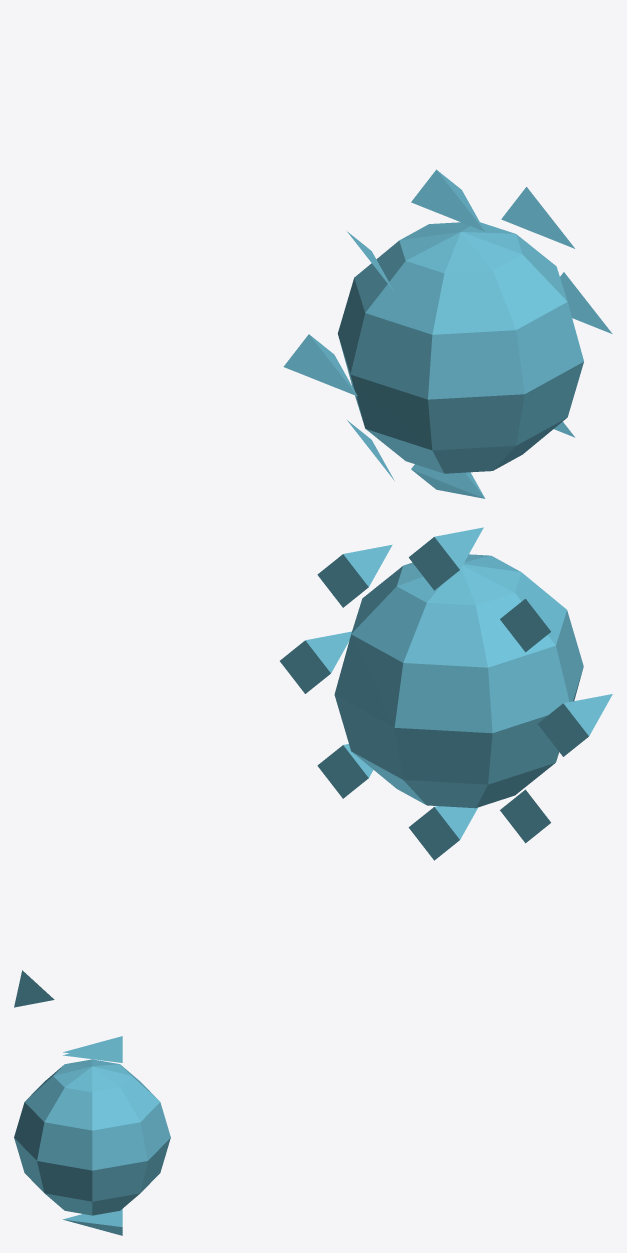
Rendered from blade-mace.lod.glb.
The picture shows the model from 3 angles, top to bottom: view 1: azimuth 30°, elevation 25°; view 2: azimuth 150°, elevation 25°; view 3: azimuth 270°, elevation 25°; orthographic projection. The views are drawn at different scales.
Visible parts, largest first — view 1: m; view 2: m; view 3: m.
Boxes of the visible parts, x1,y1,x2,y2 form: m: (283,169,612,498); m: (14,527,612,1007); m: (14,1036,170,1235).
Bounding box in the file's own units: 0.0675 × 0.0675 × 0.1862.
